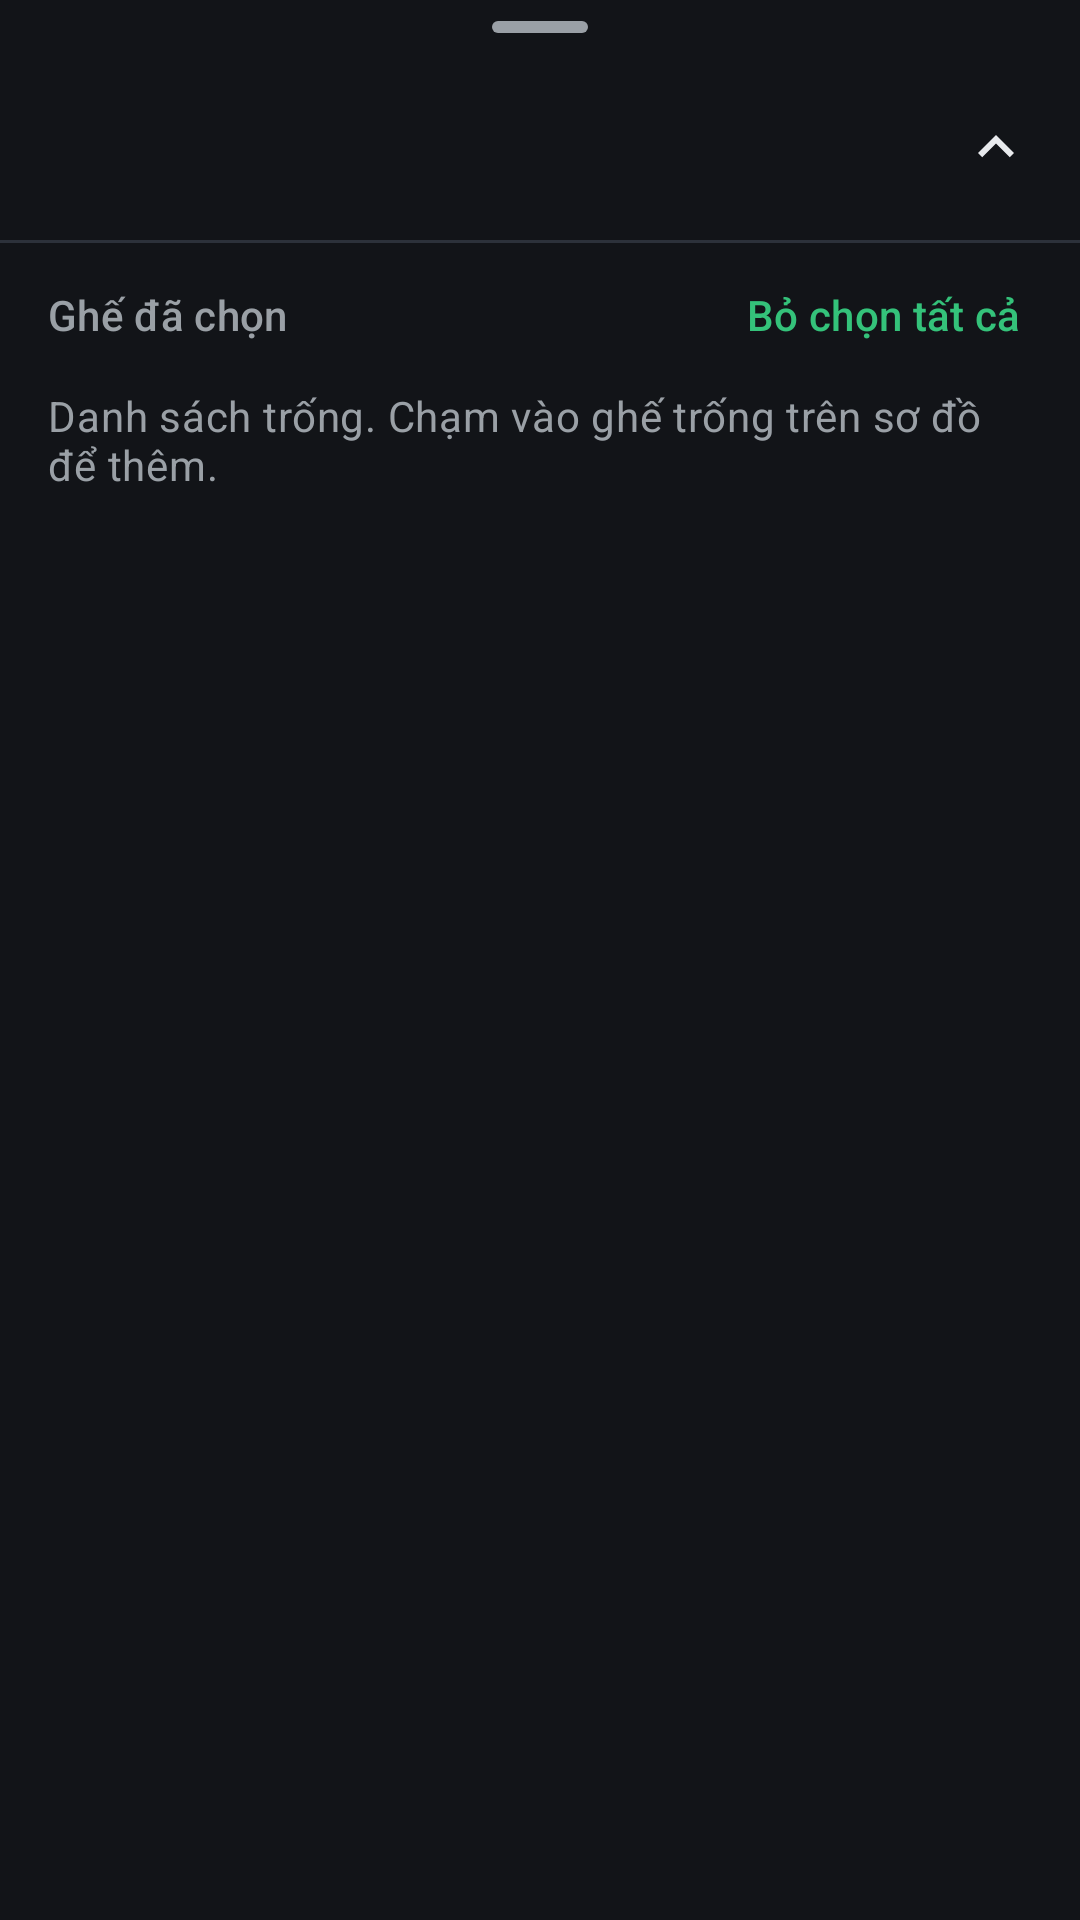

Icons on this 1080px x 1920px Android screen, each with its box as (left=x1, top=y1, right=x2, bottom=y2):
Mở rộng danh sách ghế đã chọn: (left=978, top=135, right=1014, bottom=157)
